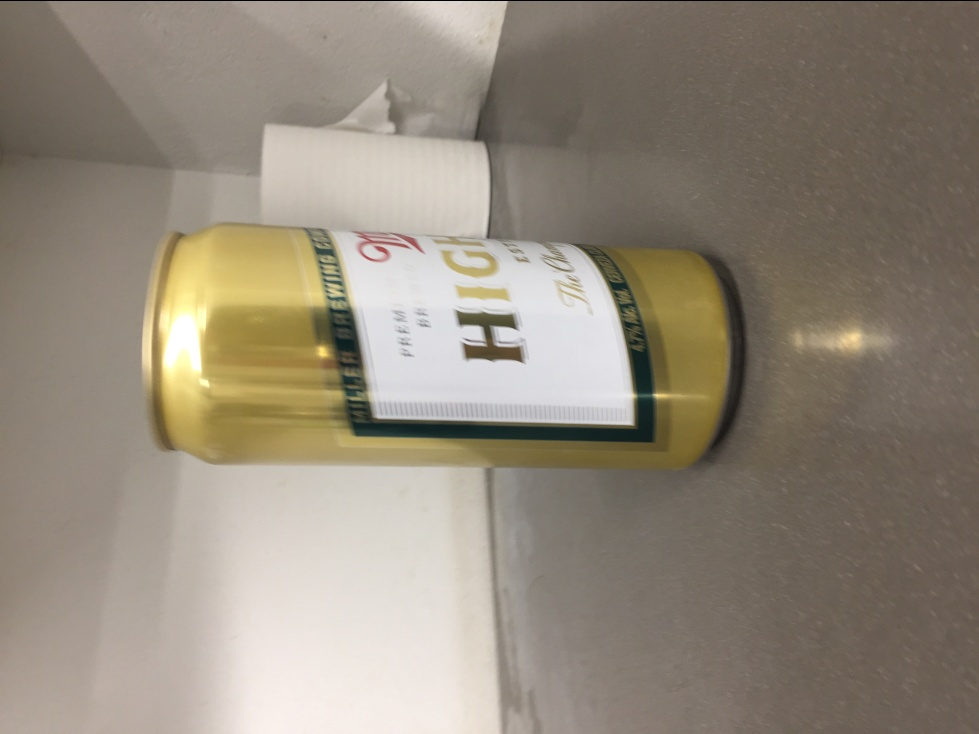miller: (138, 216, 739, 477)
